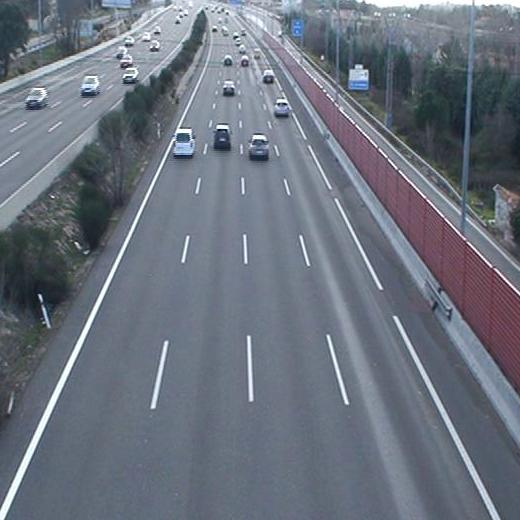car: (247, 133, 270, 159), (273, 98, 292, 116), (221, 80, 237, 96), (262, 69, 276, 83), (239, 55, 251, 68), (223, 55, 234, 67)
van: (172, 129, 198, 156)
